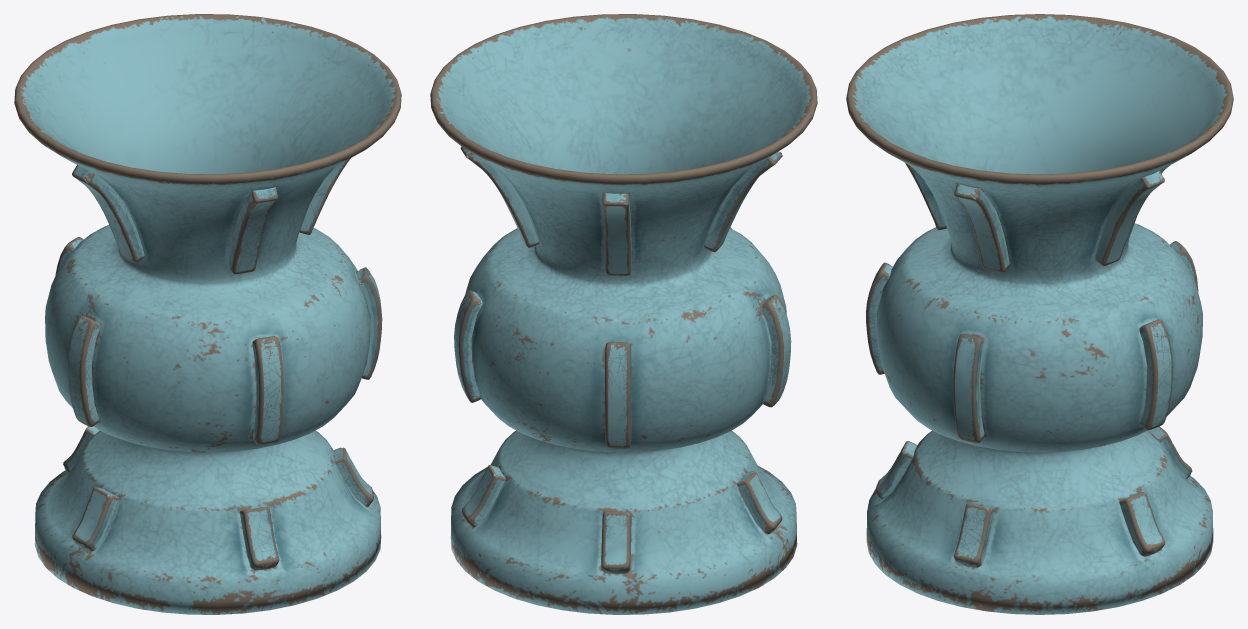
3 views of the same model, side by side, from view 1: azimuth 30°, elevation 25°; view 2: azimuth 150°, elevation 25°; view 3: azimuth 270°, elevation 25° (orthographic).
Parts seen in each view (by area): view 1: sweep36; view 2: sweep36; view 3: sweep36.
Boxes of the visible parts, bbox=[...] form: sweep36: bbox=[14, 14, 401, 614]; sweep36: bbox=[430, 14, 817, 614]; sweep36: bbox=[846, 14, 1233, 614].
Size of the model in its own units: 0.1425 by 0.1813 by 0.1425.
1 material, 1 textured.
